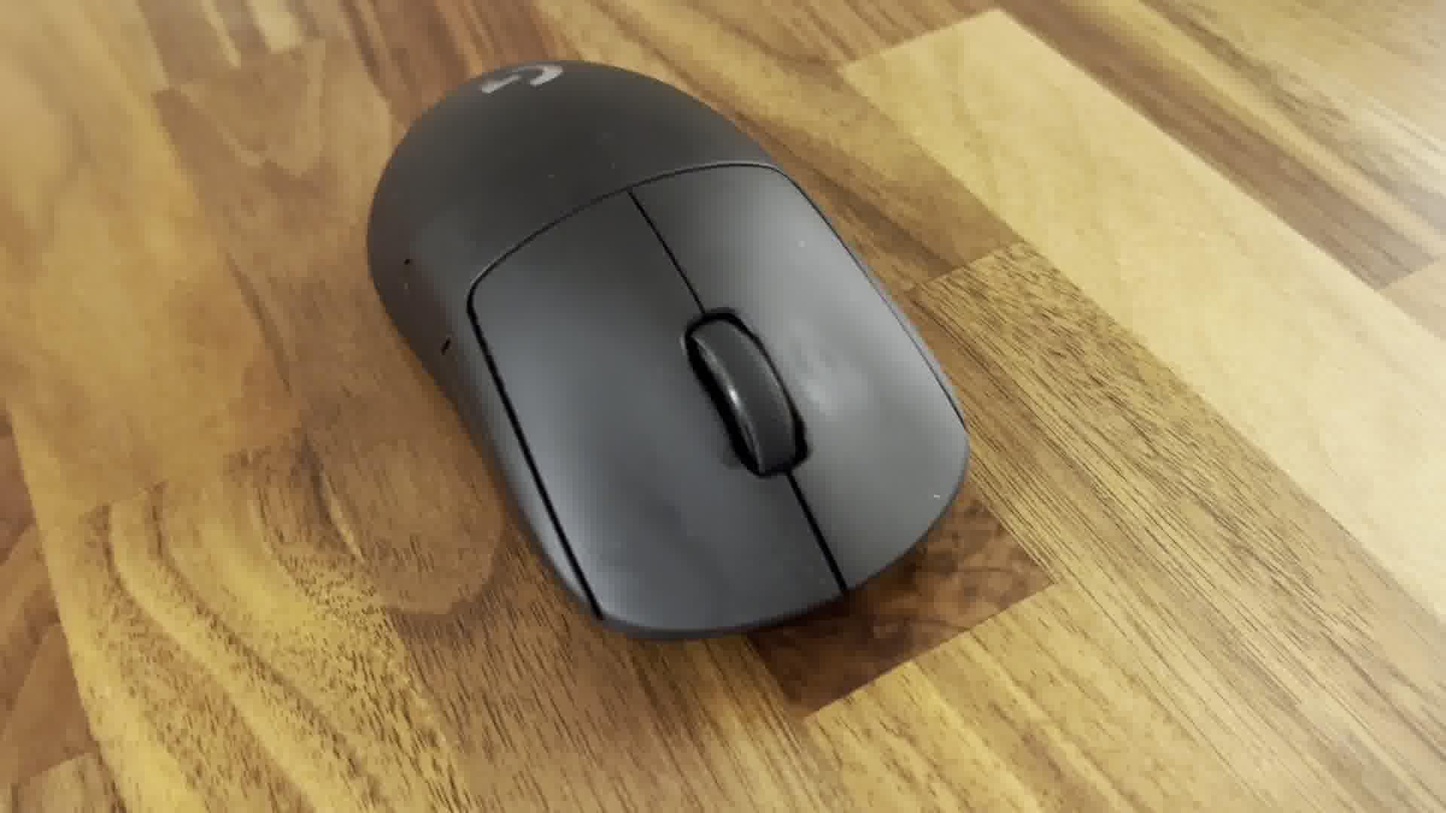mouse: (365, 54, 975, 645)
